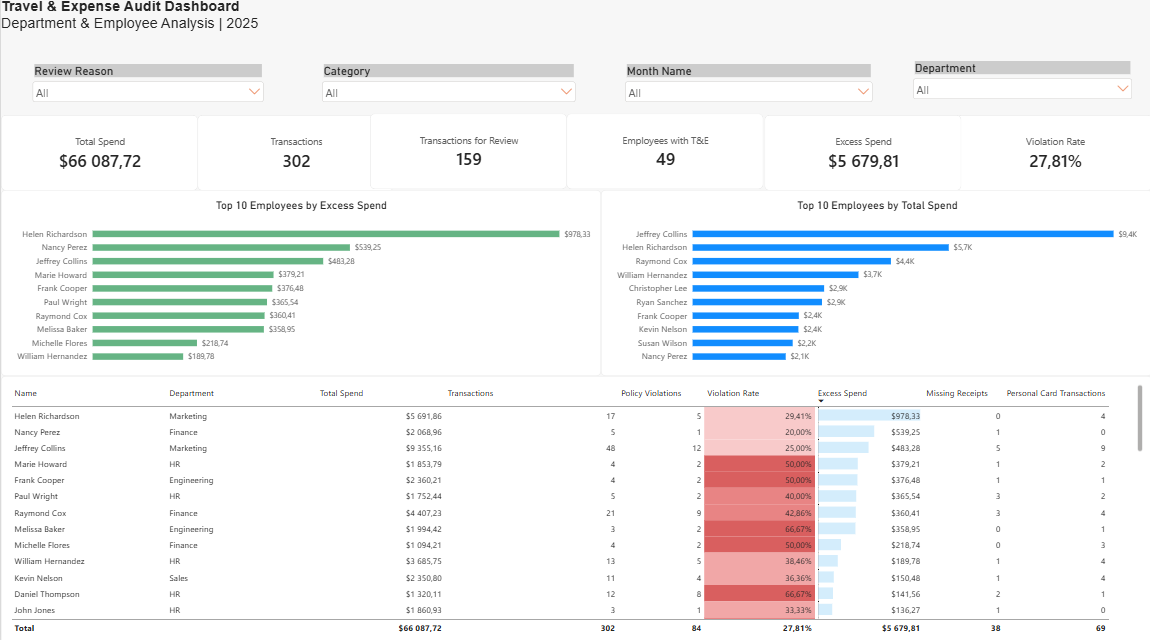

What the dashboard file says about the page in this screenshot:
{"tool":"powerbi","page":{"name":"Department & Employee","canvas":[1920,1080],"ordinal":2},"visuals":[{"type":"textbox","box":[0,0,492.5,70],"z":0},{"type":"slicer","fields":{"Values":["TE_Audit.Department"]},"box":[1515,105,375,85],"z":1000},{"type":"cardVisual","fields":{"Data":["TE_Audit.Total Spend"]},"box":[0,196,328.6,126.5],"z":1000,"group":"g1"},{"type":"slicer","fields":{"Values":["TE_Audit.Category"]},"box":[530,110,432.5,75],"z":2000},{"type":"cardVisual","fields":{"Data":["TE_Audit.Employees"]},"box":[942.9,193.5,328.6,126.5],"z":2000,"group":"g1"},{"type":"slicer","fields":{"Values":["TE_Audit.Month Name"]},"box":[1035,110,422.5,70],"z":3000},{"type":"cardVisual","fields":{"Data":["TE_Audit.Violation Rate"]},"box":[1591.4,196,328.6,126.5],"z":3000,"group":"g1"},{"type":"slicer","fields":{"Values":["TE_Audit.Review Reason"]},"box":[47.5,110,395,75],"z":4000},{"type":"cardVisual","fields":{"Data":["TE_Audit.Excess Spend"]},"box":[1271.4,196,328.6,126.5],"z":4000,"group":"g1"},{"type":"group","id":"g1","title":"Group 2","box":[0,192.5,1920,130],"z":5000},{"type":"cardVisual","fields":{"Data":["TE_Audit.Transactions"]},"box":[328.6,196,328.6,126.5],"z":5000,"group":"g1"},{"type":"group","id":"g2","title":"Group 1","box":[0,320,1000,310],"z":6000},{"type":"clusteredBarChart","title":"Top 10 Employees by Excess Spend","fields":{"Category":["TE_Audit.Name"],"Y":["TE_Audit.Excess Spend"]},"box":[0,320,1000,310],"z":7000,"group":"g2"},{"type":"clusteredBarChart","title":"Top 10 Employees by Total Spend","fields":{"Category":["TE_Audit.Name"],"Y":["TE_Audit.Total Spend"]},"box":[1000,320,920,310],"z":7000},{"type":"tableEx","fields":{"Values":["TE_Audit.Name","TE_Audit.Department","TE_Audit.Total Spend","TE_Audit.Transactions","TE_Audit.Policy Violations","TE_Audit.Violation Rate","TE_Audit.Excess Spend","TE_Audit.Missing Receipts","TE_Audit.Personal Card Transactions"]},"box":[0,630,1920,450],"z":8000},{"type":"cardVisual","fields":{"Data":["TE_Audit.Transactions for Review"]},"box":[614.1,192.5,328.6,126.5],"z":14000,"group":"g1"}]}

Visuals, with their boxes in screenshot pixels (x1, y1, x2, y2), scaled from the page's 1920x1080 canvas onto the 1150x640 screenshot:
textbox: bbox=(0, 0, 295, 41)
slicer - TE_Audit.Department: bbox=(907, 62, 1132, 113)
cardVisual - TE_Audit.Total Spend: bbox=(0, 116, 197, 191)
slicer - TE_Audit.Category: bbox=(317, 65, 576, 110)
cardVisual - TE_Audit.Employees: bbox=(565, 115, 762, 190)
slicer - TE_Audit.Month Name: bbox=(620, 65, 873, 107)
cardVisual - TE_Audit.Violation Rate: bbox=(953, 116, 1149, 191)
slicer - TE_Audit.Review Reason: bbox=(28, 65, 265, 110)
cardVisual - TE_Audit.Excess Spend: bbox=(762, 116, 958, 191)
"Group 2" group: bbox=(0, 114, 1149, 191)
cardVisual - TE_Audit.Transactions: bbox=(197, 116, 394, 191)
"Group 1" group: bbox=(0, 190, 599, 373)
"Top 10 Employees by Excess Spend" clusteredBarChart: bbox=(0, 190, 599, 373)
"Top 10 Employees by Total Spend" clusteredBarChart: bbox=(599, 190, 1149, 373)
tableEx - TE_Audit.Name x TE_Audit.Department: bbox=(0, 373, 1149, 639)
cardVisual - TE_Audit.Transactions for Review: bbox=(368, 114, 565, 189)
